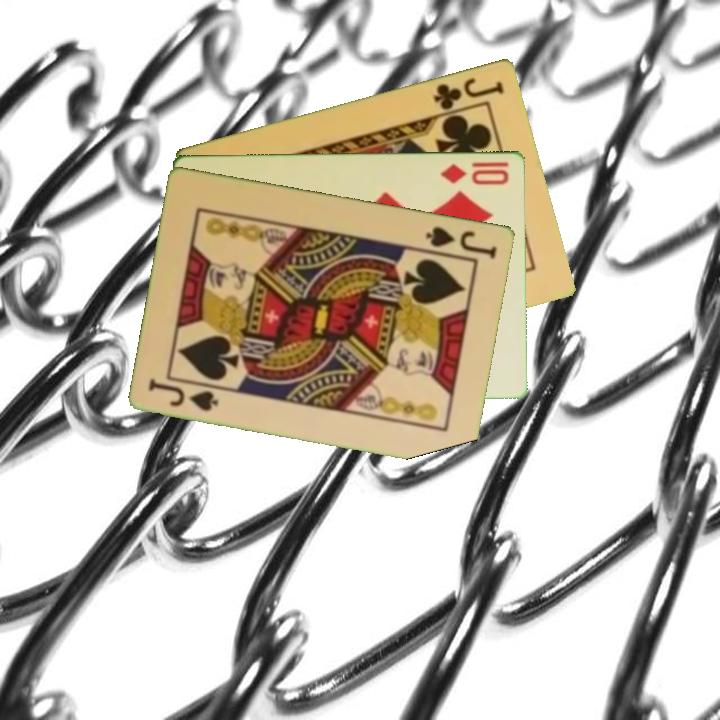10d: (438, 158, 512, 187)
Jc: (430, 73, 507, 113)
Js: (423, 222, 500, 262), (145, 375, 222, 414)
